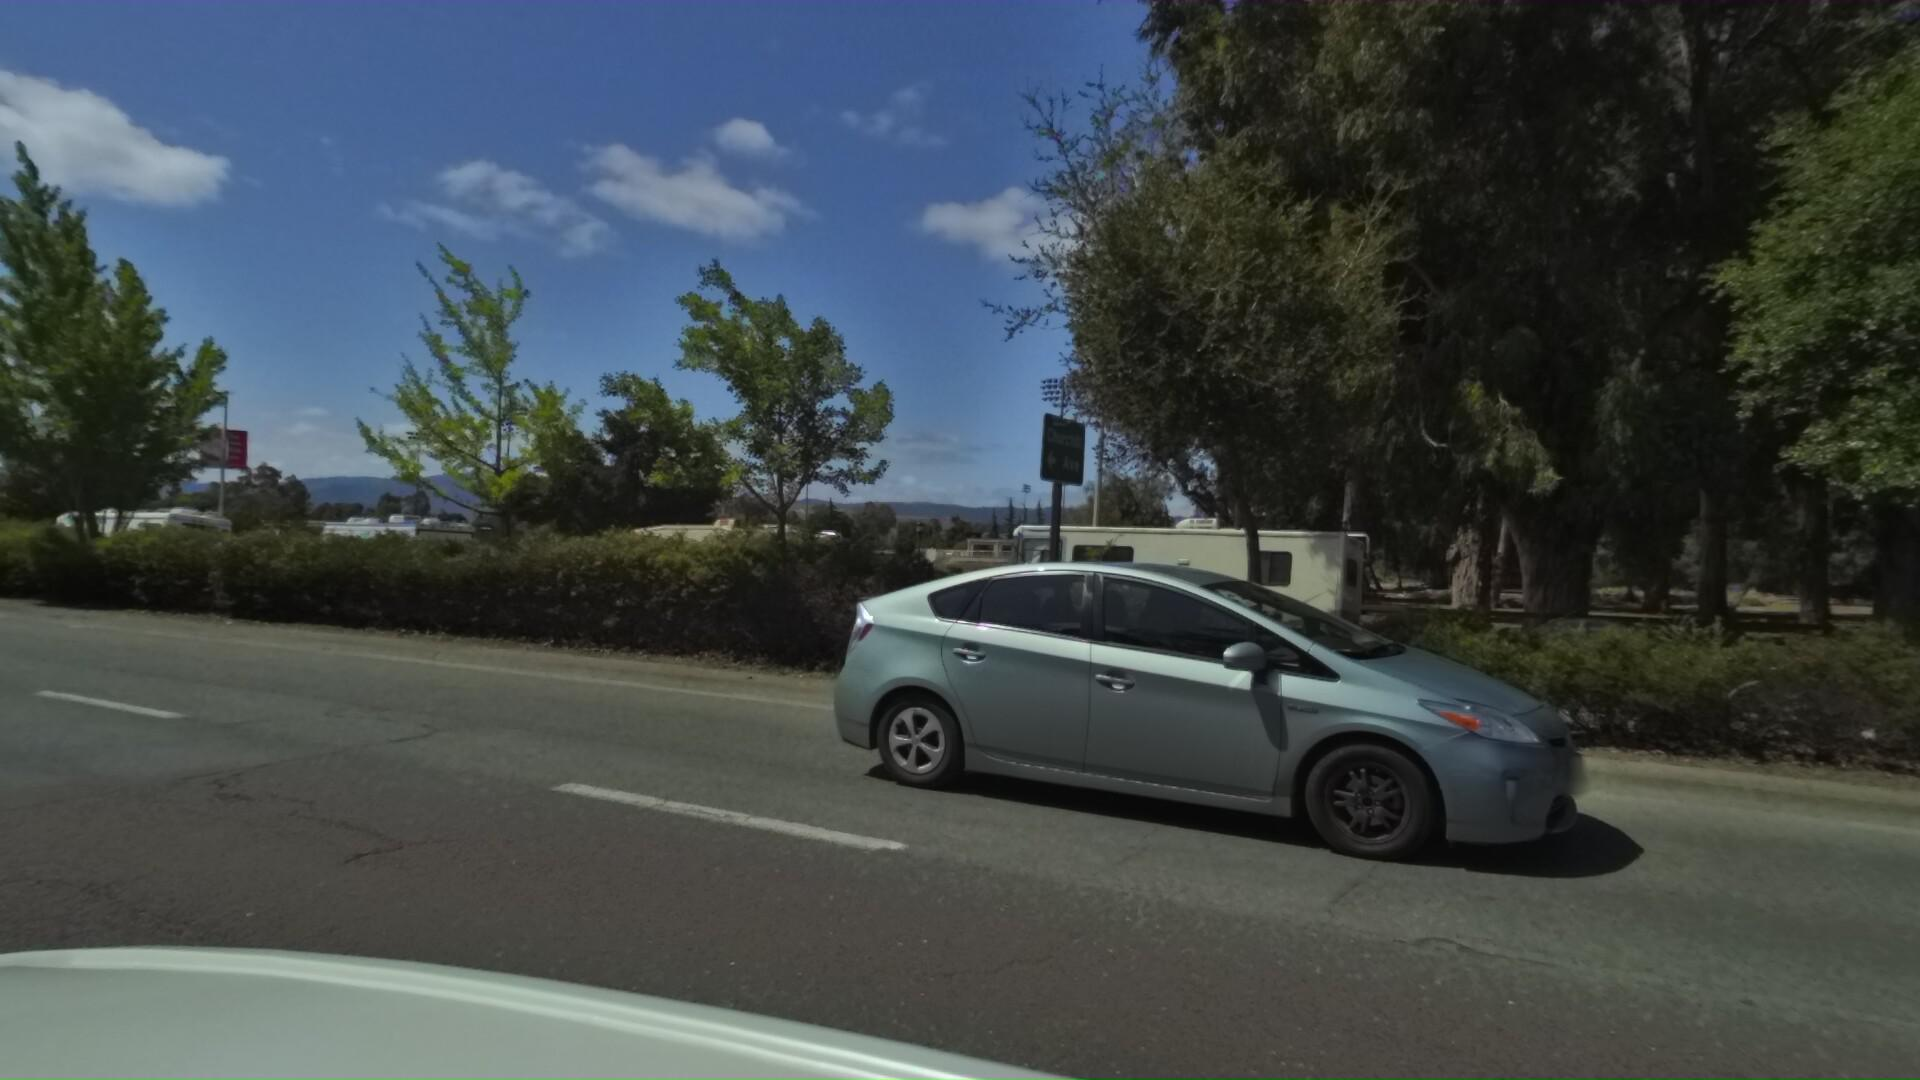car: (816, 533, 1623, 899), (1404, 599, 1687, 699), (1710, 615, 1920, 724)
other_vehicle: (961, 502, 1344, 684), (587, 509, 839, 638), (282, 512, 477, 604), (37, 502, 233, 588)
